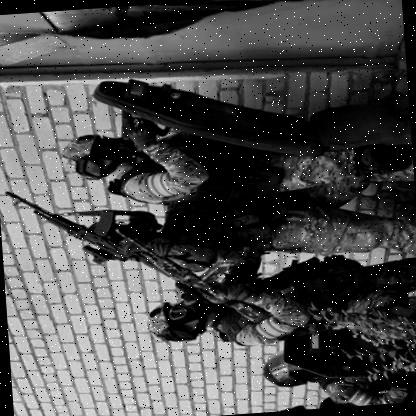rifle: (115, 214, 283, 333), (5, 177, 155, 271), (114, 102, 157, 147)
